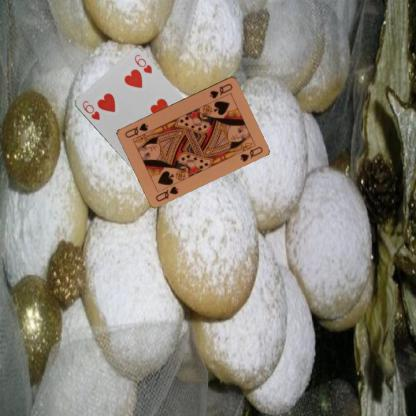6h: (80, 98, 101, 121)
Qs: (153, 183, 180, 203), (207, 80, 233, 100)
